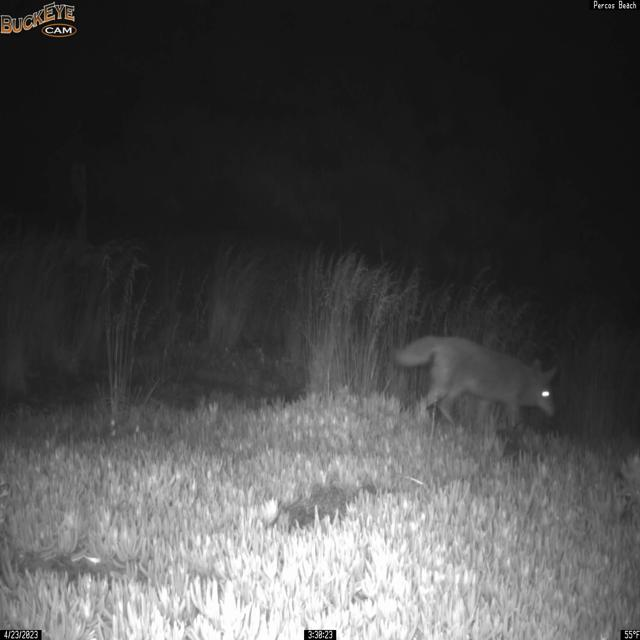coyote: (393, 334, 559, 432)
